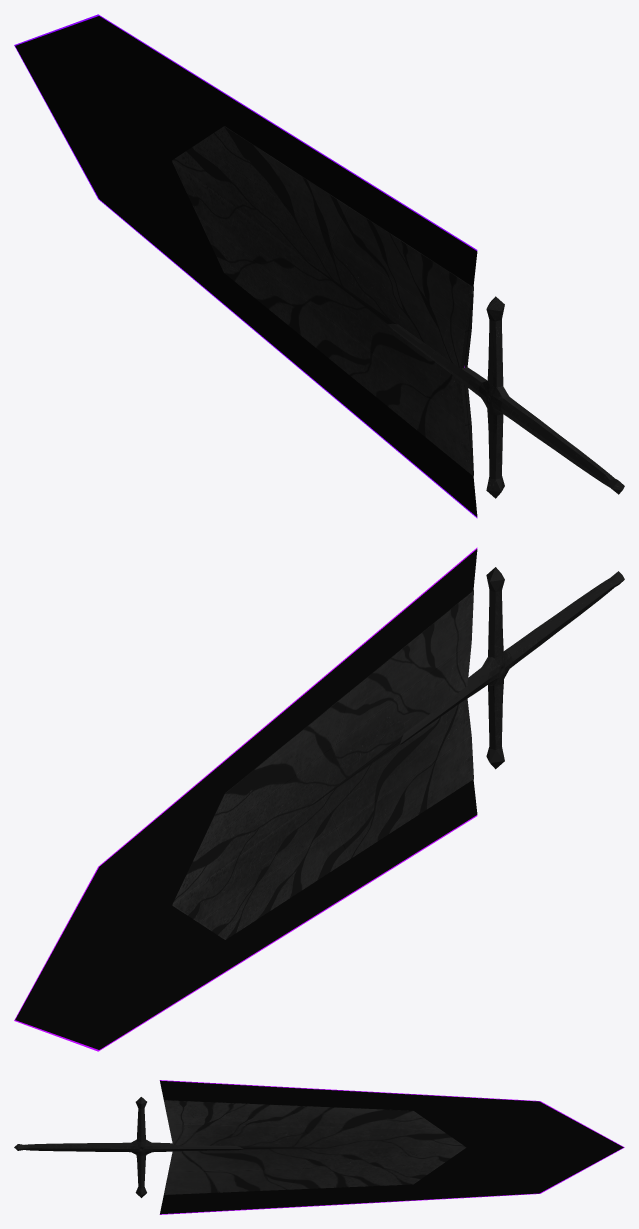
Rendered from Sword2.glb.
3 views of the same model, one above another, from view 1: azimuth 30°, elevation 25°; view 2: azimuth 150°, elevation 25°; view 3: azimuth 270°, elevation 25° (orthographic). The views are drawn at different scales.
Parts seen in each view (by area): view 1: BDDivider.001, BDBlade, BDCenterpiece, BDDivider, BDGuard.002, BDGuard, BDGuard.001; view 2: BDDivider.001, BDBlade, BDCenterpiece, BDDivider, BDGuard, BDGuard.002, BDGuard.001; view 3: BDDivider.001, BDBlade, BDCenterpiece, BDDivider, BDGuard.002, BDGuard.001, BDGuard.
Boxes of the visible parts, x1,y1,x2,y2 form: BDDivider.001: [15, 16, 477, 516]; BDBlade: [172, 126, 473, 475]; BDCenterpiece: [388, 296, 624, 498]; BDDivider: [14, 14, 477, 518]; BDGuard.002: [502, 397, 622, 492]; BDGuard: [487, 298, 502, 485]; BDGuard.001: [388, 323, 486, 396]; BDDivider.001: [15, 549, 477, 1049]; BDBlade: [172, 590, 473, 939]; BDCenterpiece: [400, 567, 624, 766]; BDDivider: [14, 547, 477, 1051]; BDGuard: [486, 567, 504, 769]; BDGuard.002: [504, 571, 624, 668]; BDGuard.001: [400, 667, 489, 743]; BDDivider.001: [160, 1080, 623, 1214]; BDBlade: [164, 1100, 466, 1194]; BDCenterpiece: [14, 1097, 242, 1197]; BDDivider: [160, 1080, 624, 1214]; BDGuard.002: [14, 1142, 130, 1152]; BDGuard.001: [152, 1142, 243, 1151]; BDGuard: [137, 1097, 146, 1197].
Bounding box in the file's own units: 9.23 × 127 × 523.
5 materials, 2 textured.
